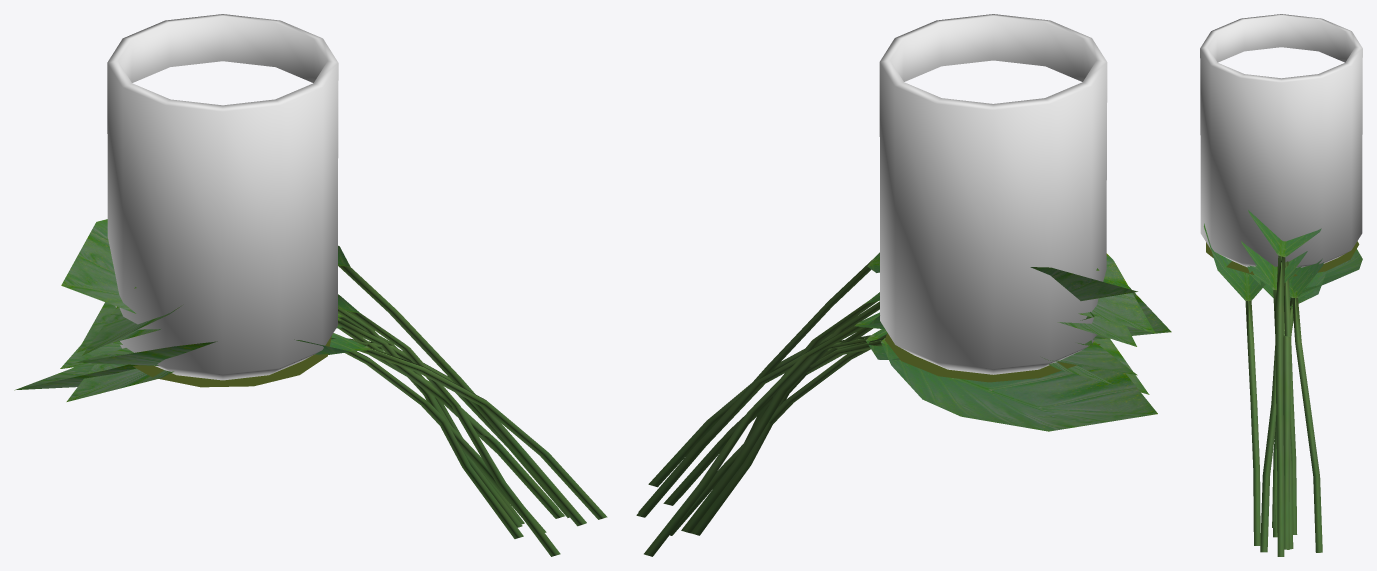
File: potted-plant--mediterranean-med-leaf--lo-bc7f26.glb
3 renders of one model, left to right at view 1: azimuth 30°, elevation 25°; view 2: azimuth 150°, elevation 25°; view 3: azimuth 270°, elevation 25°, orthographic. The views are drawn at different scales.
Visible parts, largest first — view 1: PropMesh; view 2: PropMesh; view 3: PropMesh.
Part boxes in pixels (left/top/right/bottom): PropMesh: left=14, top=14, right=607, bottom=556; PropMesh: left=636, top=14, right=1171, bottom=556; PropMesh: left=1200, top=14, right=1362, bottom=556.
Size of the model in its own units: 2.26 by 2.2 by 0.8185.
Materials: 3 (1 with a texture image).
